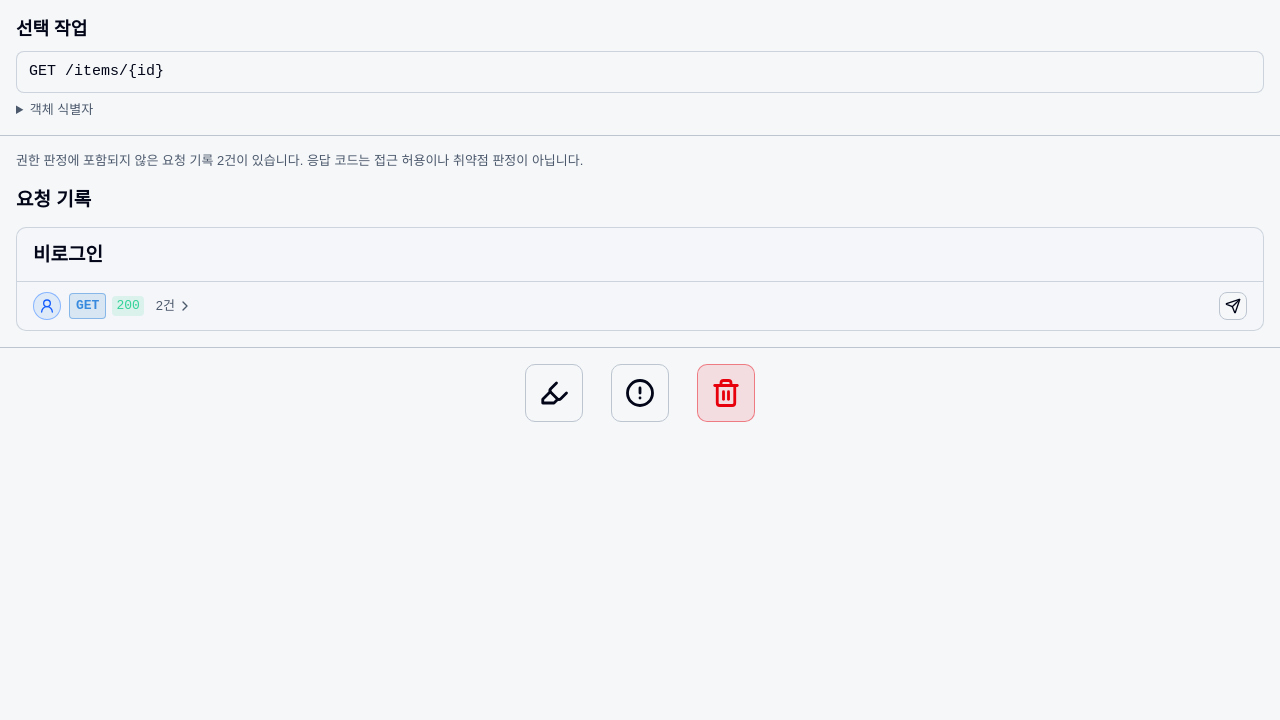
Test: closes a deletion preview when the selected request group is replaced
Click the button named "객체 삭제". click: (726, 393)
box: [697,364,755,422]
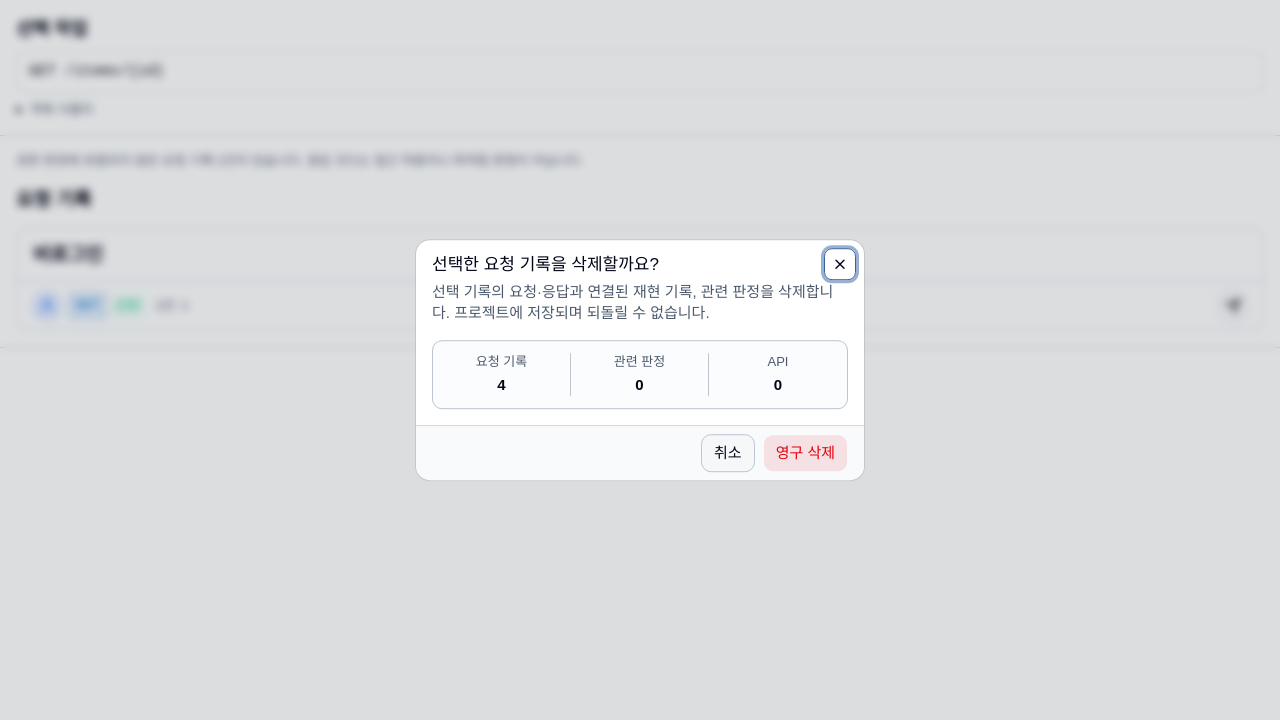
Expected: the button "영구 삭제" is shown, [763,434,848,472]
